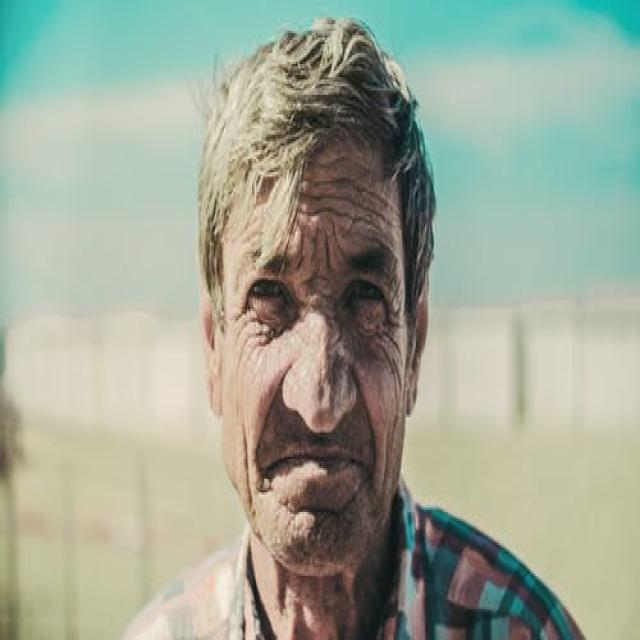Wrinkles: (379, 342, 397, 398), (361, 204, 390, 220), (312, 157, 346, 166), (303, 192, 346, 198), (333, 224, 342, 251), (394, 358, 401, 389), (375, 194, 388, 204), (301, 210, 322, 216), (322, 177, 344, 182), (350, 217, 367, 222), (326, 238, 329, 265), (364, 188, 374, 194), (388, 204, 394, 210), (351, 180, 356, 186), (344, 176, 351, 180), (306, 180, 313, 184), (314, 182, 322, 185), (302, 232, 303, 256), (300, 256, 302, 264)
